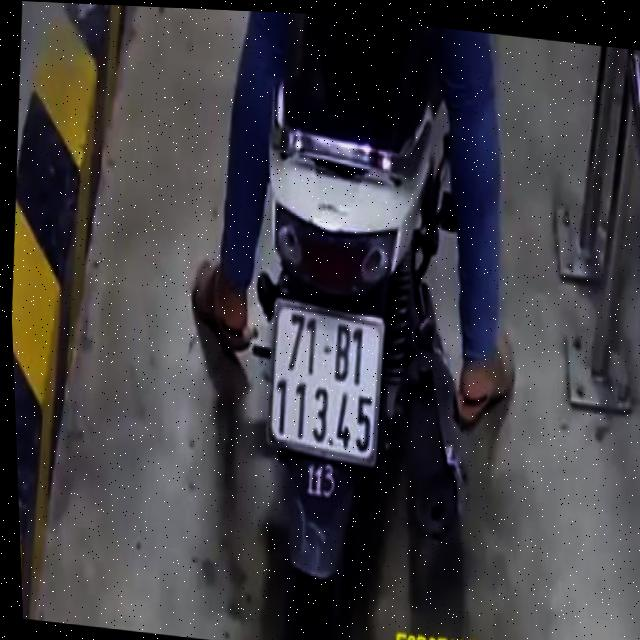motorcycle: (204, 9, 511, 640)
plate: (259, 294, 395, 472)
